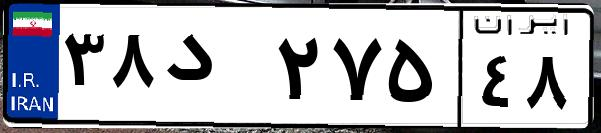2: (270, 28, 330, 110)
3: (57, 26, 110, 100)
4: (475, 38, 525, 113)
5: (385, 28, 445, 110)
7: (330, 28, 385, 110)
8: (525, 38, 570, 115), (110, 28, 158, 98)
د: (158, 20, 270, 120)
